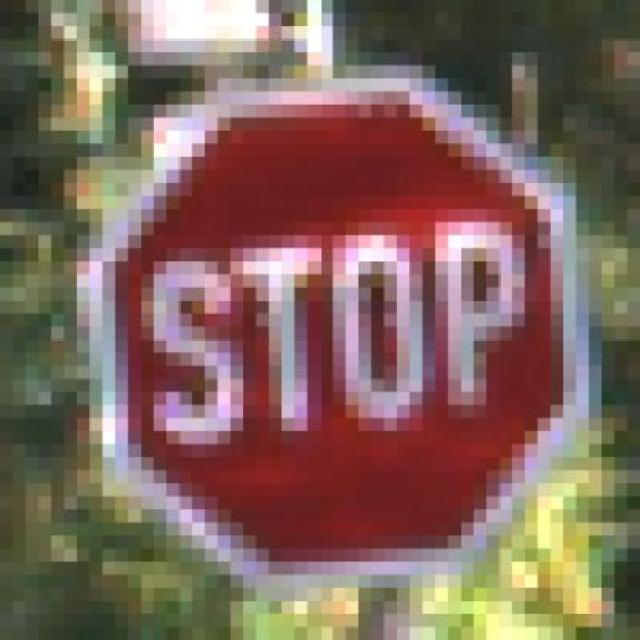Stop_Sign: (51, 65, 602, 601)
